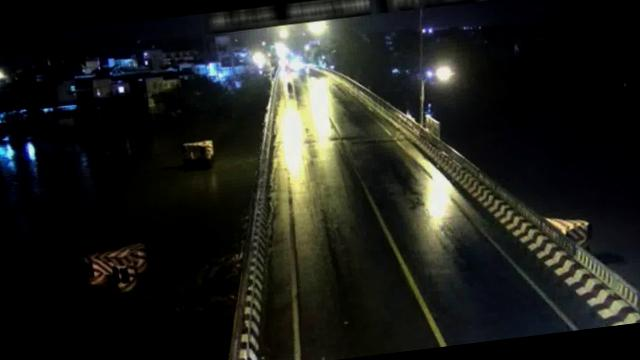Bike: (285, 77, 294, 97)
